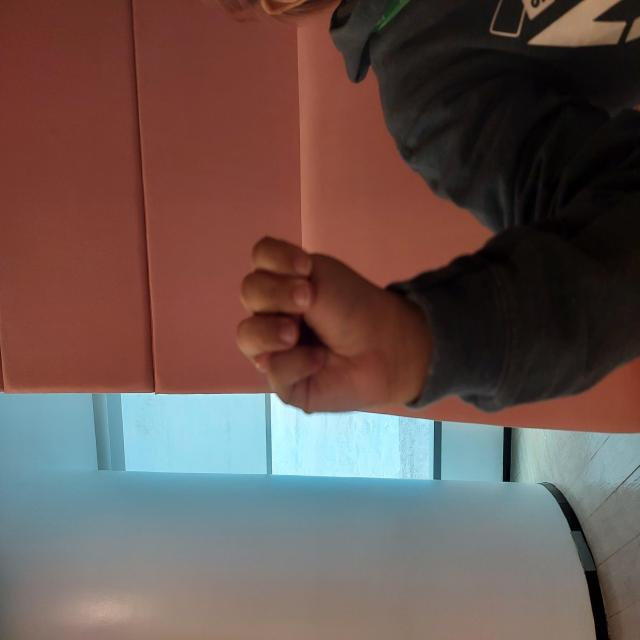M: (218, 231, 412, 410)
